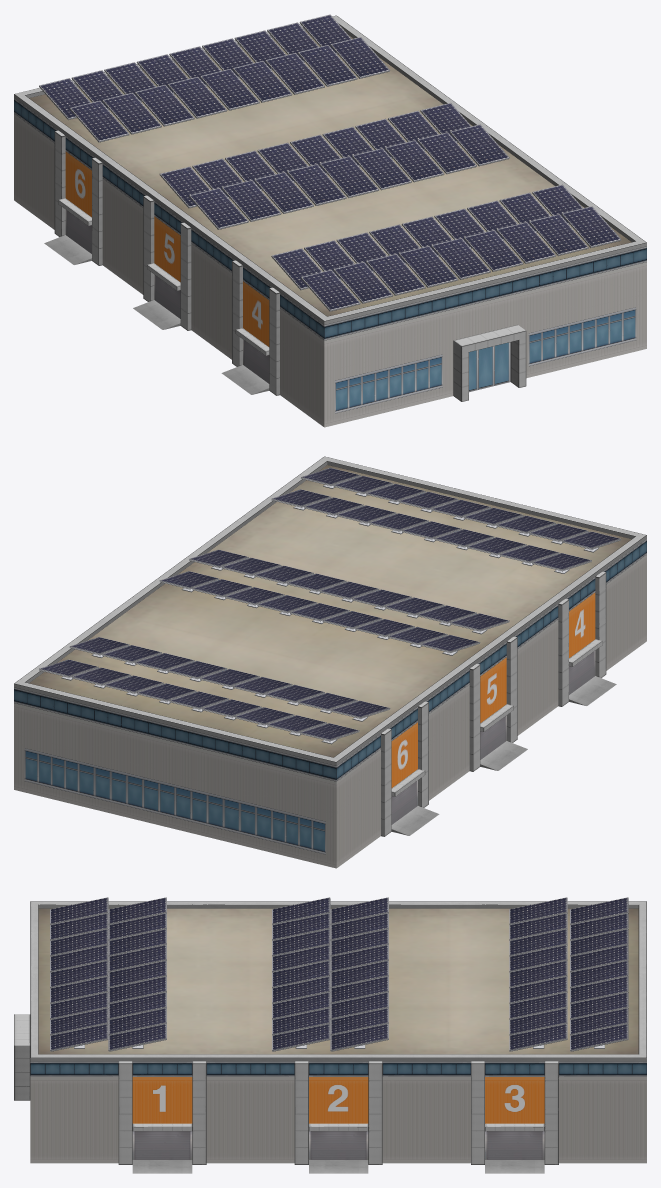
The picture shows the model from 3 angles, top to bottom: view 1: azimuth 30°, elevation 25°; view 2: azimuth 150°, elevation 25°; view 3: azimuth 270°, elevation 25°; orthographic projection.
Parts seen in each view (by area): view 1: MainBuilding; view 2: MainBuilding; view 3: MainBuilding.
Part boxes in pixels (x1,y1,x2,y2): MainBuilding: (14,14,646,427); MainBuilding: (14,456,646,868); MainBuilding: (14,897,646,1173).
Bounding box in the file's own units: 3.92 × 1.21 × 5.92.
Materials: 1 (1 with a texture image).
